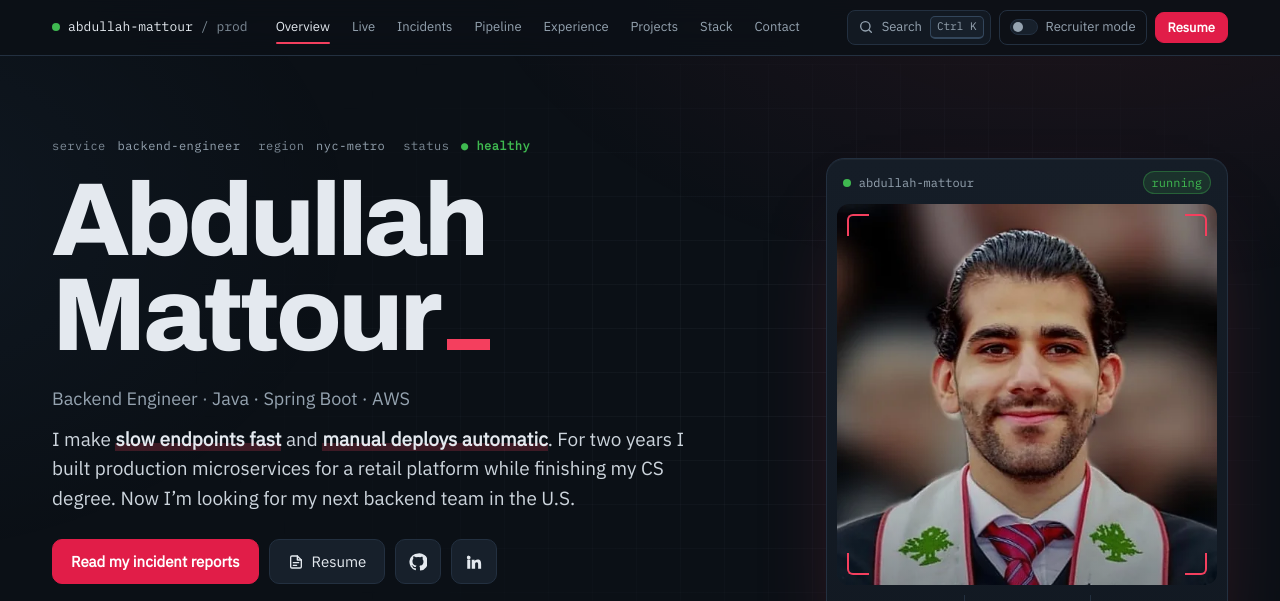
Test: portfolio app › recruiter mode shows the 30-second summary and hides the deep sections
Check: the text "Recruiter summary" is not shown
Click the button "Recruiter mode" at (1072, 27), box [998, 10, 1146, 45]
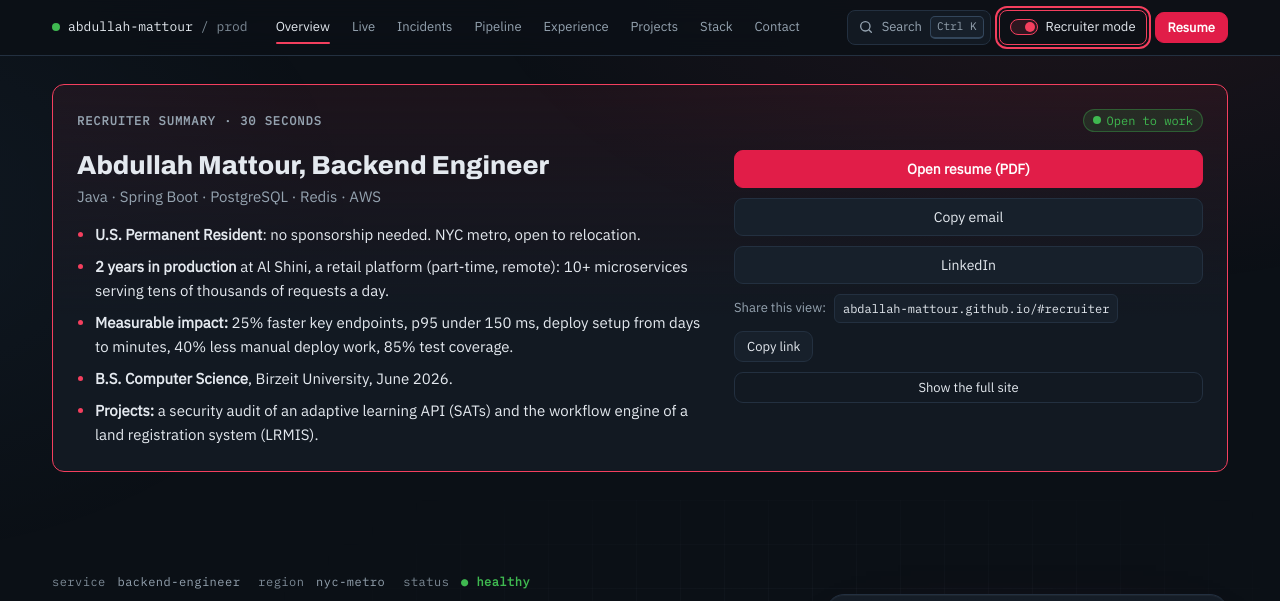
Check: the heading "Recruiter summary · 30 seconds" is shown, box [77, 112, 322, 128]
Click the button "Show the full site" at (969, 388), box [734, 372, 1203, 403]
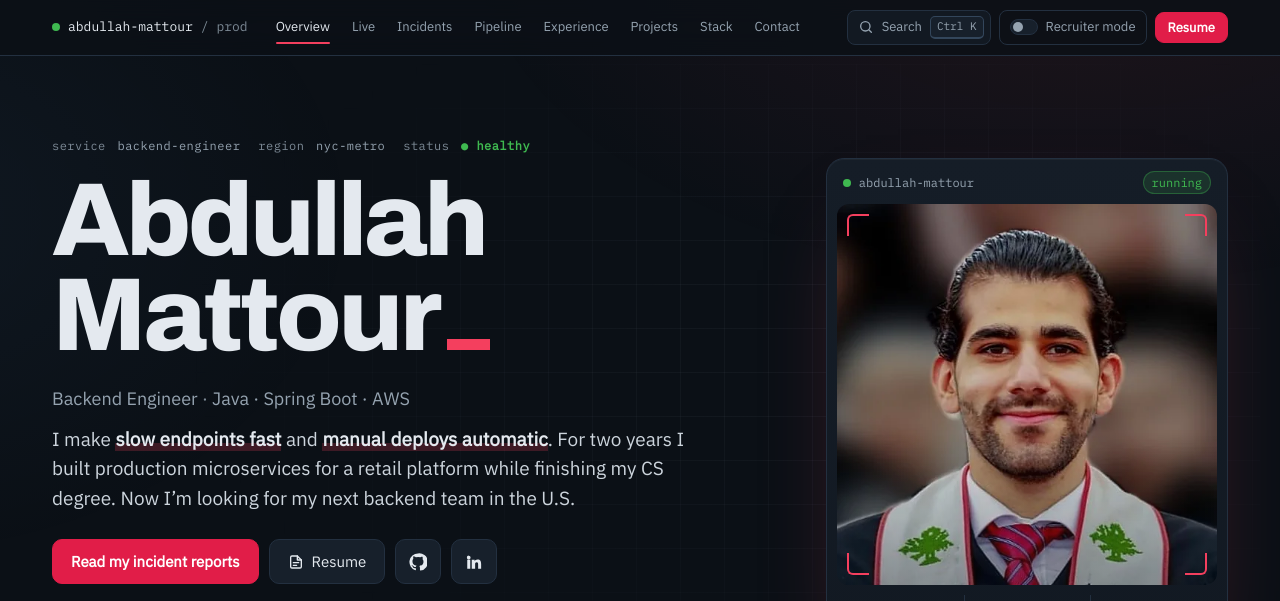
Check: the heading "Recruiter summary" is gone
